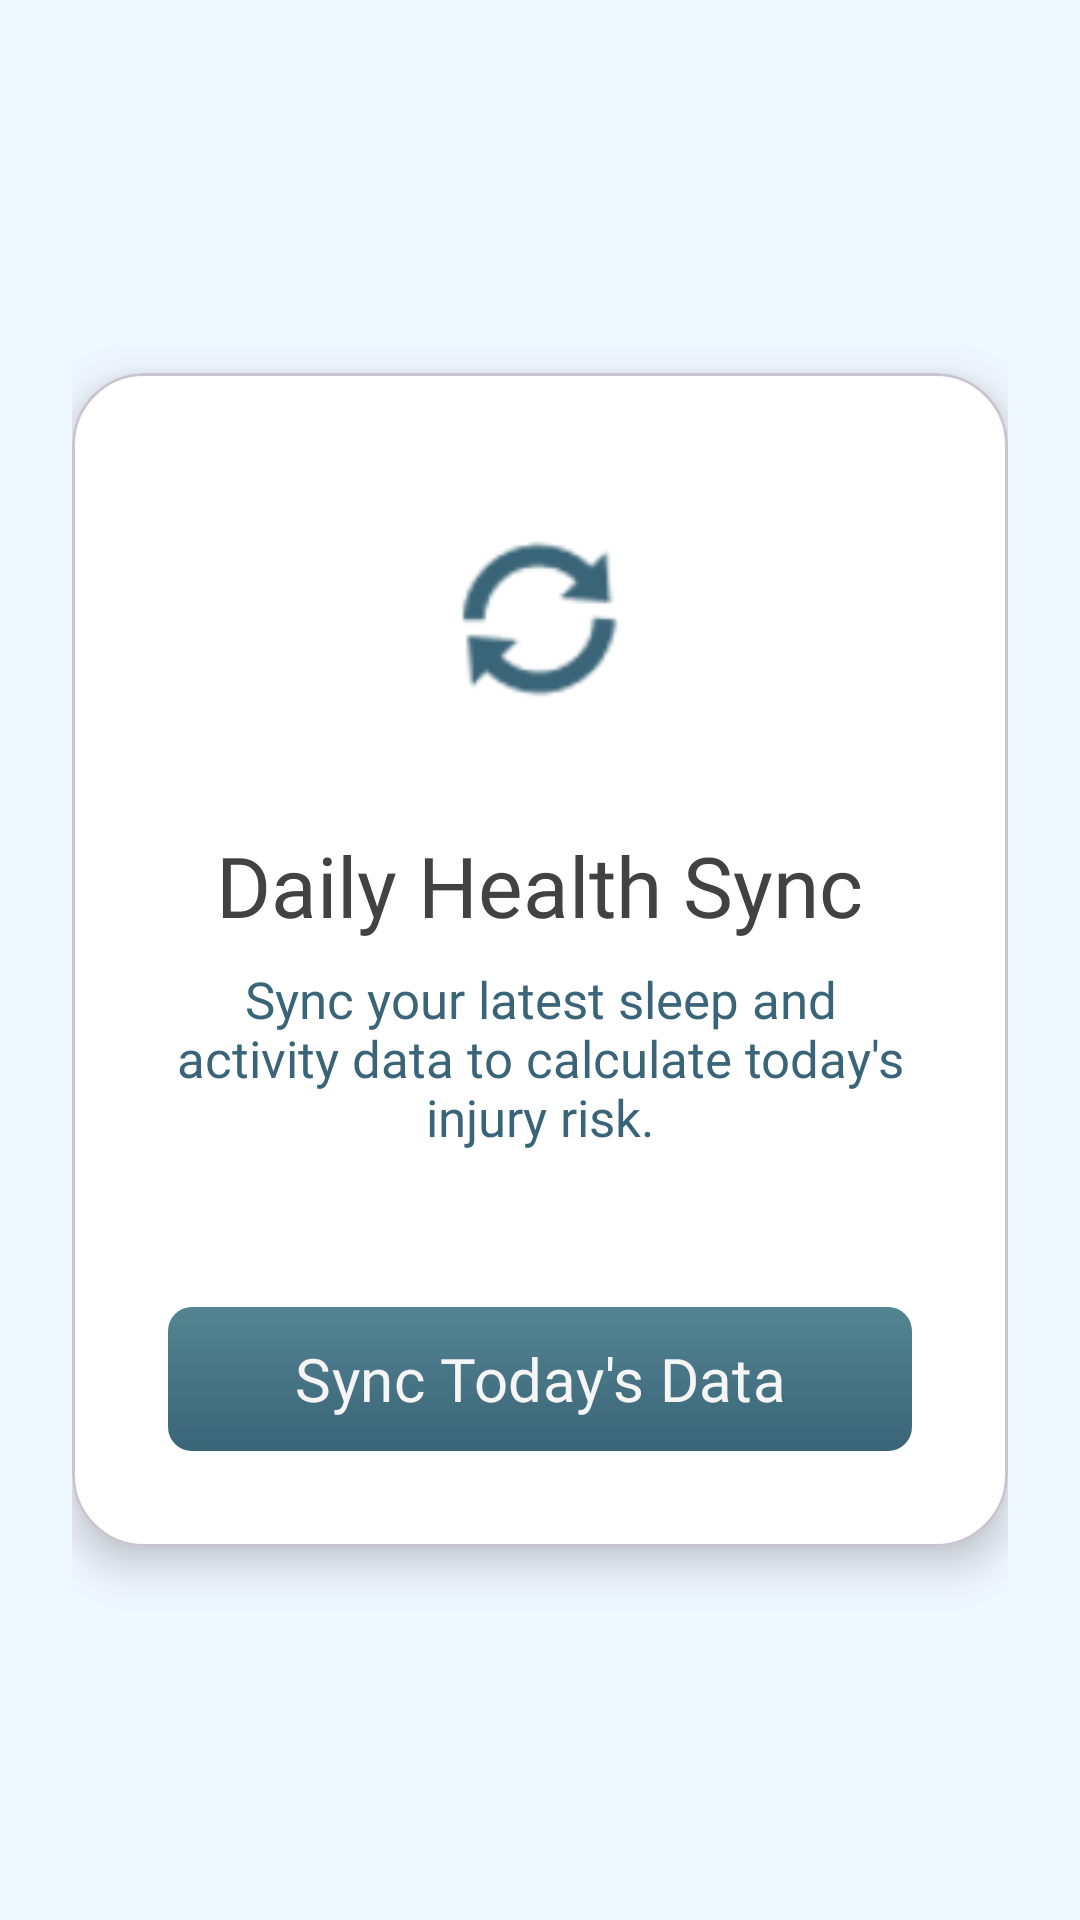

Icon click points for this 1080w x 1920h phone screenshot, format (x=x, y=y):
popup sync: (x=540, y=619)
